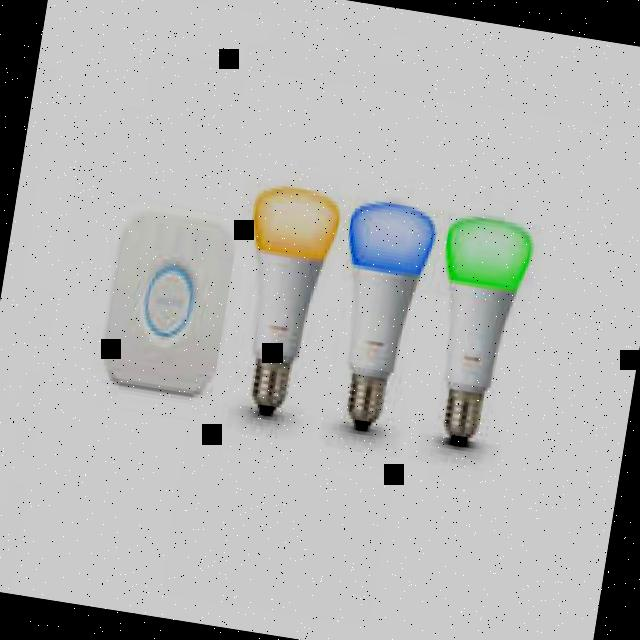light_bulb: (404, 184, 546, 470), (209, 156, 353, 438), (307, 171, 448, 453)
